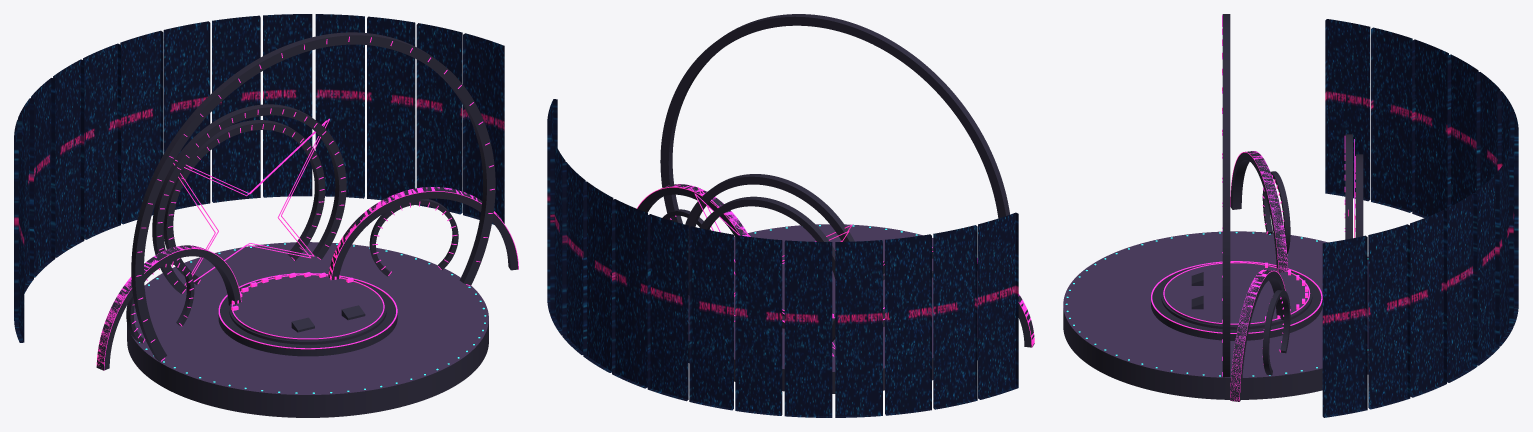
The model's file is ring-remake-R01B-shared-candidate.glb.
The picture shows the model from 3 angles, left to right: view 1: azimuth 30°, elevation 25°; view 2: azimuth 150°, elevation 25°; view 3: azimuth 270°, elevation 25°; orthographic projection. The views are drawn at different scales.
Visible parts, largest first — view 1: P_OUT_single_closed_body, ARCH_LARGEST_TOP_UNSEEN, LED_PANEL_02_BACKSIDE_INFERRED, LED_PANEL_03_BACKSIDE_INFERRED, LED_PANEL_04_BACKSIDE_INFERRED, P_IN_performance_disc, LED_PANEL_01_BACKSIDE_INFERRED, LED_PANEL_05_BACKSIDE_INFERRED, LED_PANEL_07_BACKSIDE_INFERRED, LED_PANEL_08_BACKSIDE_INFERRED, LED_PANEL_06_BACKSIDE_INFERRED, LED_PANEL_00_BACKSIDE_INFERRED (+16 smaller); view 2: LED_PANEL_09_BACKSIDE_INFERRED, LED_PANEL_08_BACKSIDE_INFERRED, LED_PANEL_10_BACKSIDE_INFERRED, LED_PANEL_11_BACKSIDE_INFERRED, LED_PANEL_07_BACKSIDE_INFERRED, LED_PANEL_12_BACKSIDE_INFERRED, LED_PANEL_06_BACKSIDE_INFERRED, LED_PANEL_13_BACKSIDE_INFERRED, ARCH_LARGEST_TOP_UNSEEN, LED_PANEL_05_BACKSIDE_INFERRED, LED_PANEL_04_BACKSIDE_INFERRED, LED_PANEL_03_BACKSIDE_INFERRED (+7 smaller); view 3: P_OUT_single_closed_body, LED_PANEL_00_BACKSIDE_INFERRED, LED_PANEL_01_BACKSIDE_INFERRED, LED_PANEL_12_BACKSIDE_INFERRED, LED_PANEL_13_BACKSIDE_INFERRED, LED_PANEL_02_BACKSIDE_INFERRED, LED_PANEL_11_BACKSIDE_INFERRED, LED_PANEL_03_BACKSIDE_INFERRED, P_IN_performance_disc, LED_PANEL_10_BACKSIDE_INFERRED, LED_PANEL_04_BACKSIDE_INFERRED, ARCH_LARGEST_TOP_UNSEEN (+16 smaller).
Part boxes in pixels (box(x1,y1,x2,y2)): P_OUT_single_closed_body: box(127, 242, 488, 417); ARCH_LARGEST_TOP_UNSEEN: box(131, 32, 495, 361); LED_PANEL_02_BACKSIDE_INFERRED: box(367, 16, 415, 200); LED_PANEL_03_BACKSIDE_INFERRED: box(315, 14, 364, 198); LED_PANEL_04_BACKSIDE_INFERRED: box(263, 14, 312, 197); P_IN_performance_disc: box(231, 275, 384, 340); LED_PANEL_01_BACKSIDE_INFERRED: box(416, 23, 462, 214); LED_PANEL_05_BACKSIDE_INFERRED: box(212, 15, 260, 202); LED_PANEL_07_BACKSIDE_INFERRED: box(120, 30, 163, 224); LED_PANEL_08_BACKSIDE_INFERRED: box(83, 43, 120, 239); LED_PANEL_06_BACKSIDE_INFERRED: box(163, 21, 210, 209); LED_PANEL_00_BACKSIDE_INFERRED: box(463, 33, 504, 224); LED_PANEL_09_BACKSIDE_INFERRED: box(784, 240, 832, 417); LED_PANEL_08_BACKSIDE_INFERRED: box(735, 235, 782, 415); LED_PANEL_10_BACKSIDE_INFERRED: box(835, 240, 882, 417); LED_PANEL_11_BACKSIDE_INFERRED: box(885, 234, 931, 415); LED_PANEL_07_BACKSIDE_INFERRED: box(689, 226, 733, 410); LED_PANEL_12_BACKSIDE_INFERRED: box(933, 225, 977, 409); LED_PANEL_06_BACKSIDE_INFERRED: box(647, 214, 688, 401); LED_PANEL_13_BACKSIDE_INFERRED: box(978, 212, 1018, 399); ARCH_LARGEST_TOP_UNSEEN: box(660, 14, 1009, 223); LED_PANEL_05_BACKSIDE_INFERRED: box(612, 199, 647, 388); LED_PANEL_04_BACKSIDE_INFERRED: box(583, 181, 613, 372); LED_PANEL_03_BACKSIDE_INFERRED: box(562, 162, 585, 354); P_OUT_single_closed_body: box(1063, 231, 1368, 399); LED_PANEL_00_BACKSIDE_INFERRED: box(1322, 235, 1367, 417); LED_PANEL_01_BACKSIDE_INFERRED: box(1368, 224, 1410, 409); LED_PANEL_12_BACKSIDE_INFERRED: box(1371, 27, 1412, 212); LED_PANEL_13_BACKSIDE_INFERRED: box(1325, 19, 1370, 201); LED_PANEL_02_BACKSIDE_INFERRED: box(1410, 210, 1446, 397); LED_PANEL_11_BACKSIDE_INFERRED: box(1412, 39, 1448, 217); LED_PANEL_03_BACKSIDE_INFERRED: box(1445, 193, 1477, 382); P_IN_performance_disc: box(1163, 263, 1310, 326); LED_PANEL_10_BACKSIDE_INFERRED: box(1447, 54, 1478, 207); LED_PANEL_04_BACKSIDE_INFERRED: box(1475, 174, 1499, 365); ARCH_LARGEST_TOP_UNSEEN: box(1222, 14, 1230, 377).
Size of the model in its own units: 30.85 by 18.7 by 26.25.
5 materials, 1 textured.
